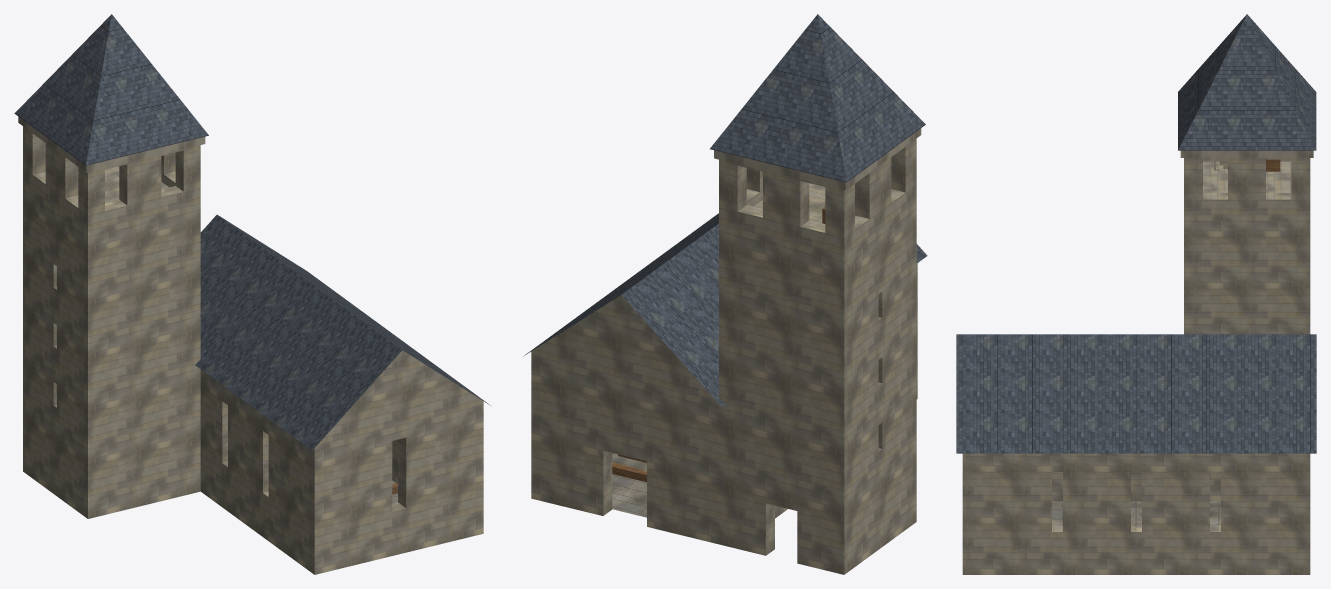
The model's file is fort-chapel.reveal-v1.lod0.glb.
The picture shows the model from 3 angles, left to right: view 1: azimuth 30°, elevation 25°; view 2: azimuth 150°, elevation 25°; view 3: azimuth 270°, elevation 25°; orthographic projection. The views are drawn at different scales.
Visible parts, largest first — view 1: fort-chapel; view 2: fort-chapel; view 3: fort-chapel.
Boxes of the visible parts, x1,y1,x2,y2 form: fort-chapel: [14, 14, 490, 574]; fort-chapel: [523, 14, 927, 574]; fort-chapel: [956, 14, 1316, 574].
Size of the model in its own units: 20.78 by 31.7 by 22.8.
Materials: 4 (4 with a texture image).
